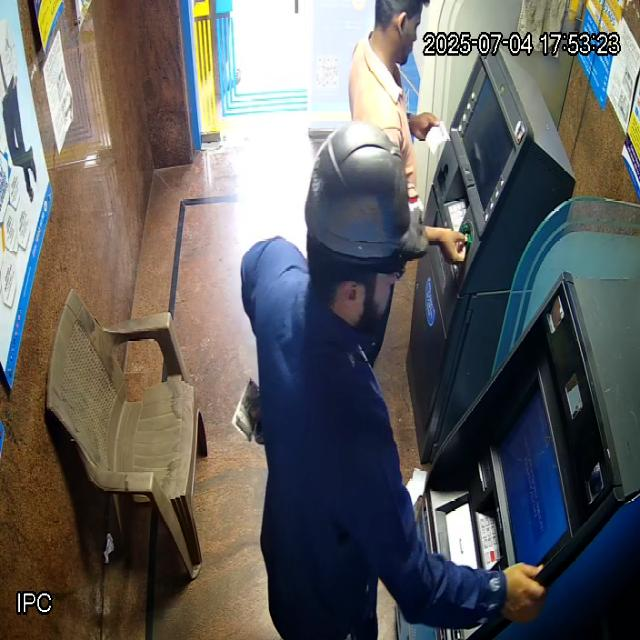helmet: (304, 119, 431, 334)
no_helmet: (370, 0, 430, 74)
